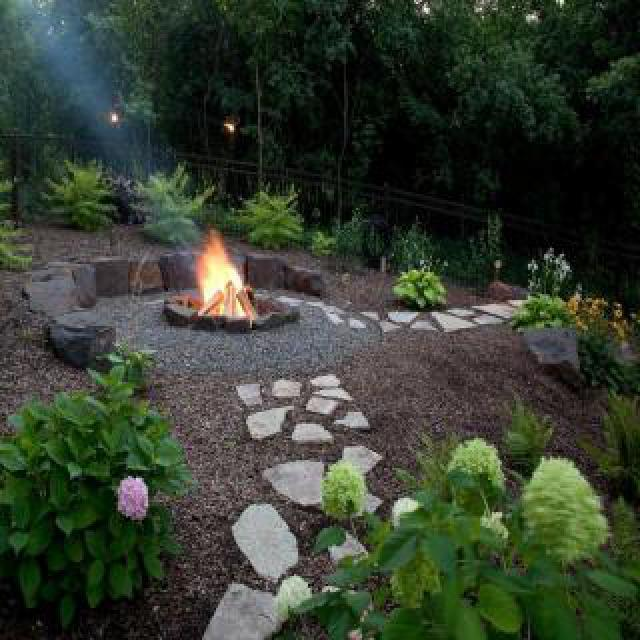Fire: (192, 238, 252, 316)
